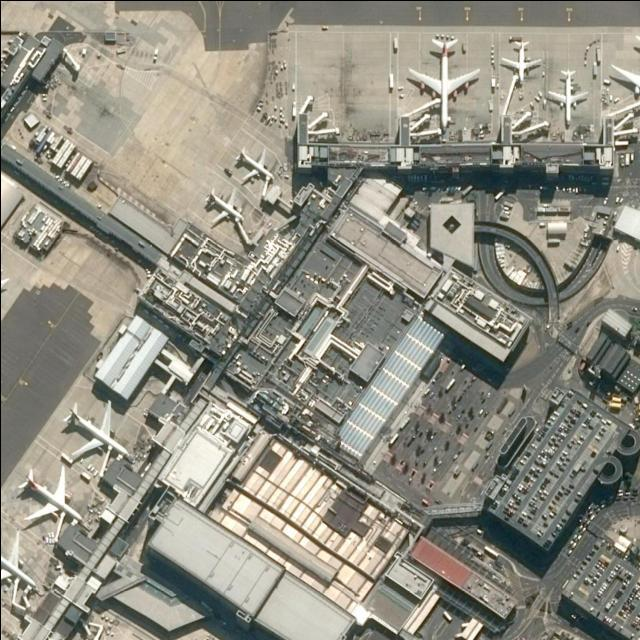Aircraft: (405, 36, 482, 128), (59, 401, 131, 464), (13, 467, 85, 528), (0, 526, 36, 596), (544, 69, 584, 127), (609, 40, 640, 106), (497, 39, 539, 84), (231, 145, 275, 185), (202, 189, 244, 227)
